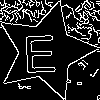E: (21, 26, 58, 73)
